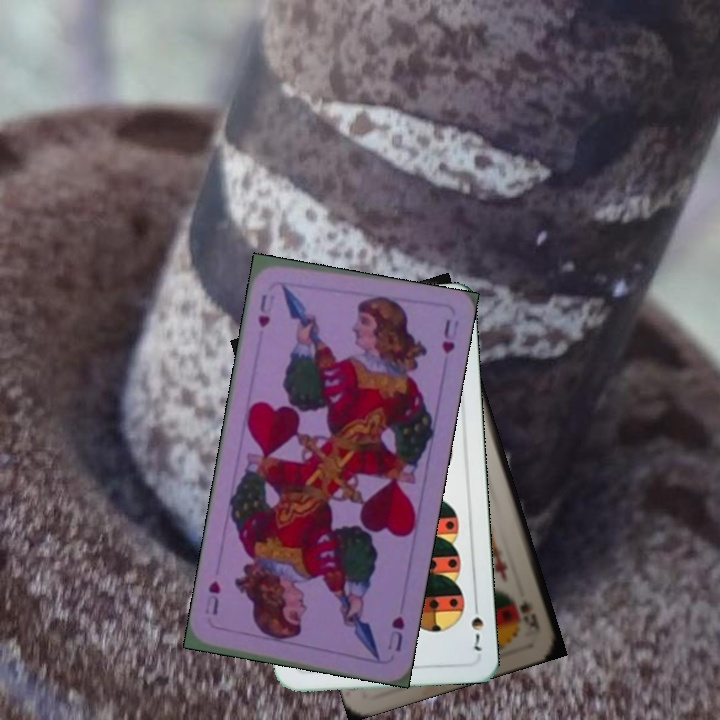HU: (383, 612, 407, 654), (254, 290, 273, 330)
S7: (467, 597, 486, 653)
SK: (515, 597, 543, 635)
